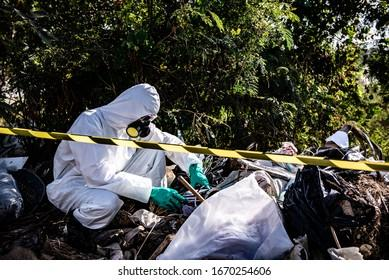gloves: (150, 185, 185, 212), (188, 162, 210, 188)
